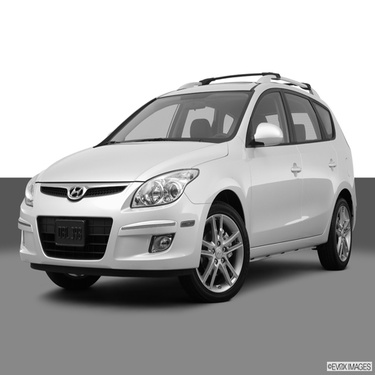car: (14, 62, 357, 300)
